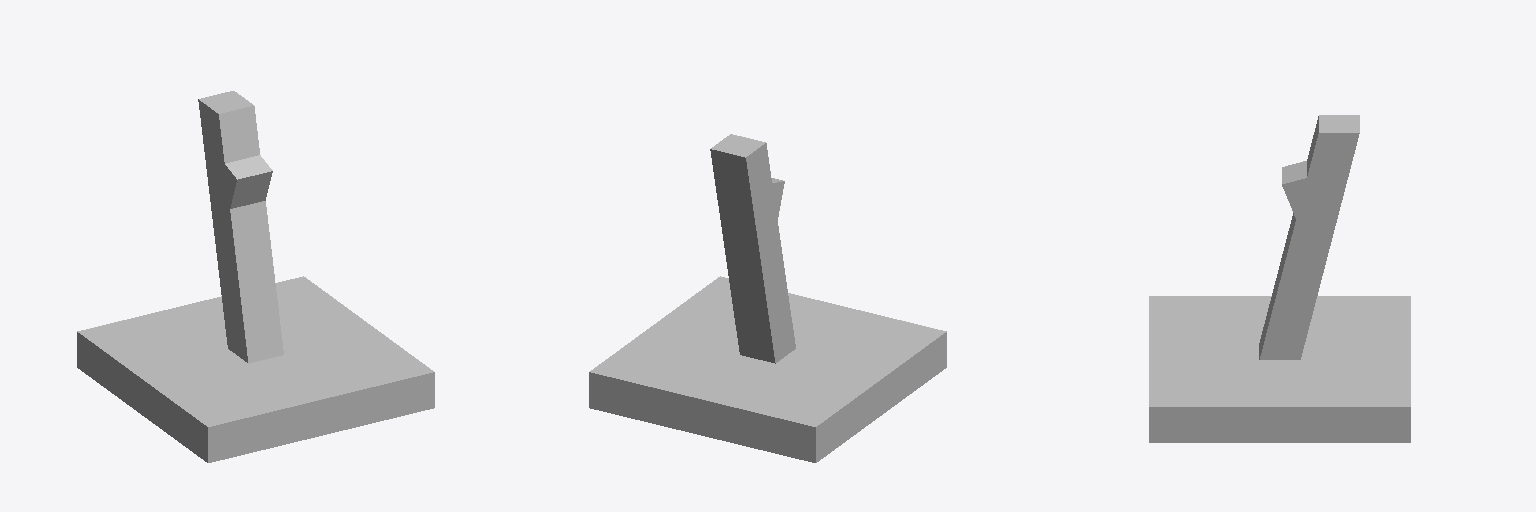
File: spigot.obj
3 views of the same model, side by side, from view 1: azimuth 30°, elevation 25°; view 2: azimuth 150°, elevation 25°; view 3: azimuth 270°, elevation 25° (orthographic).
Parts seen in each view (by area): view 1: Cube.001; view 2: Cube.001; view 3: Cube.001.
Part boxes in pixels (x1,y1,x2,y2): Cube.001: (77, 91, 434, 462); Cube.001: (589, 134, 946, 462); Cube.001: (1149, 115, 1410, 442).
Bounding box in the file's own units: 0.6162 × 0.6853 × 0.6162.